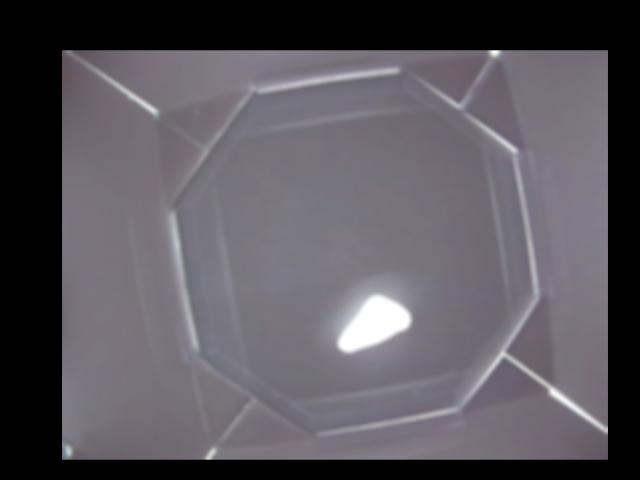Pebble: (336, 294, 412, 353)
